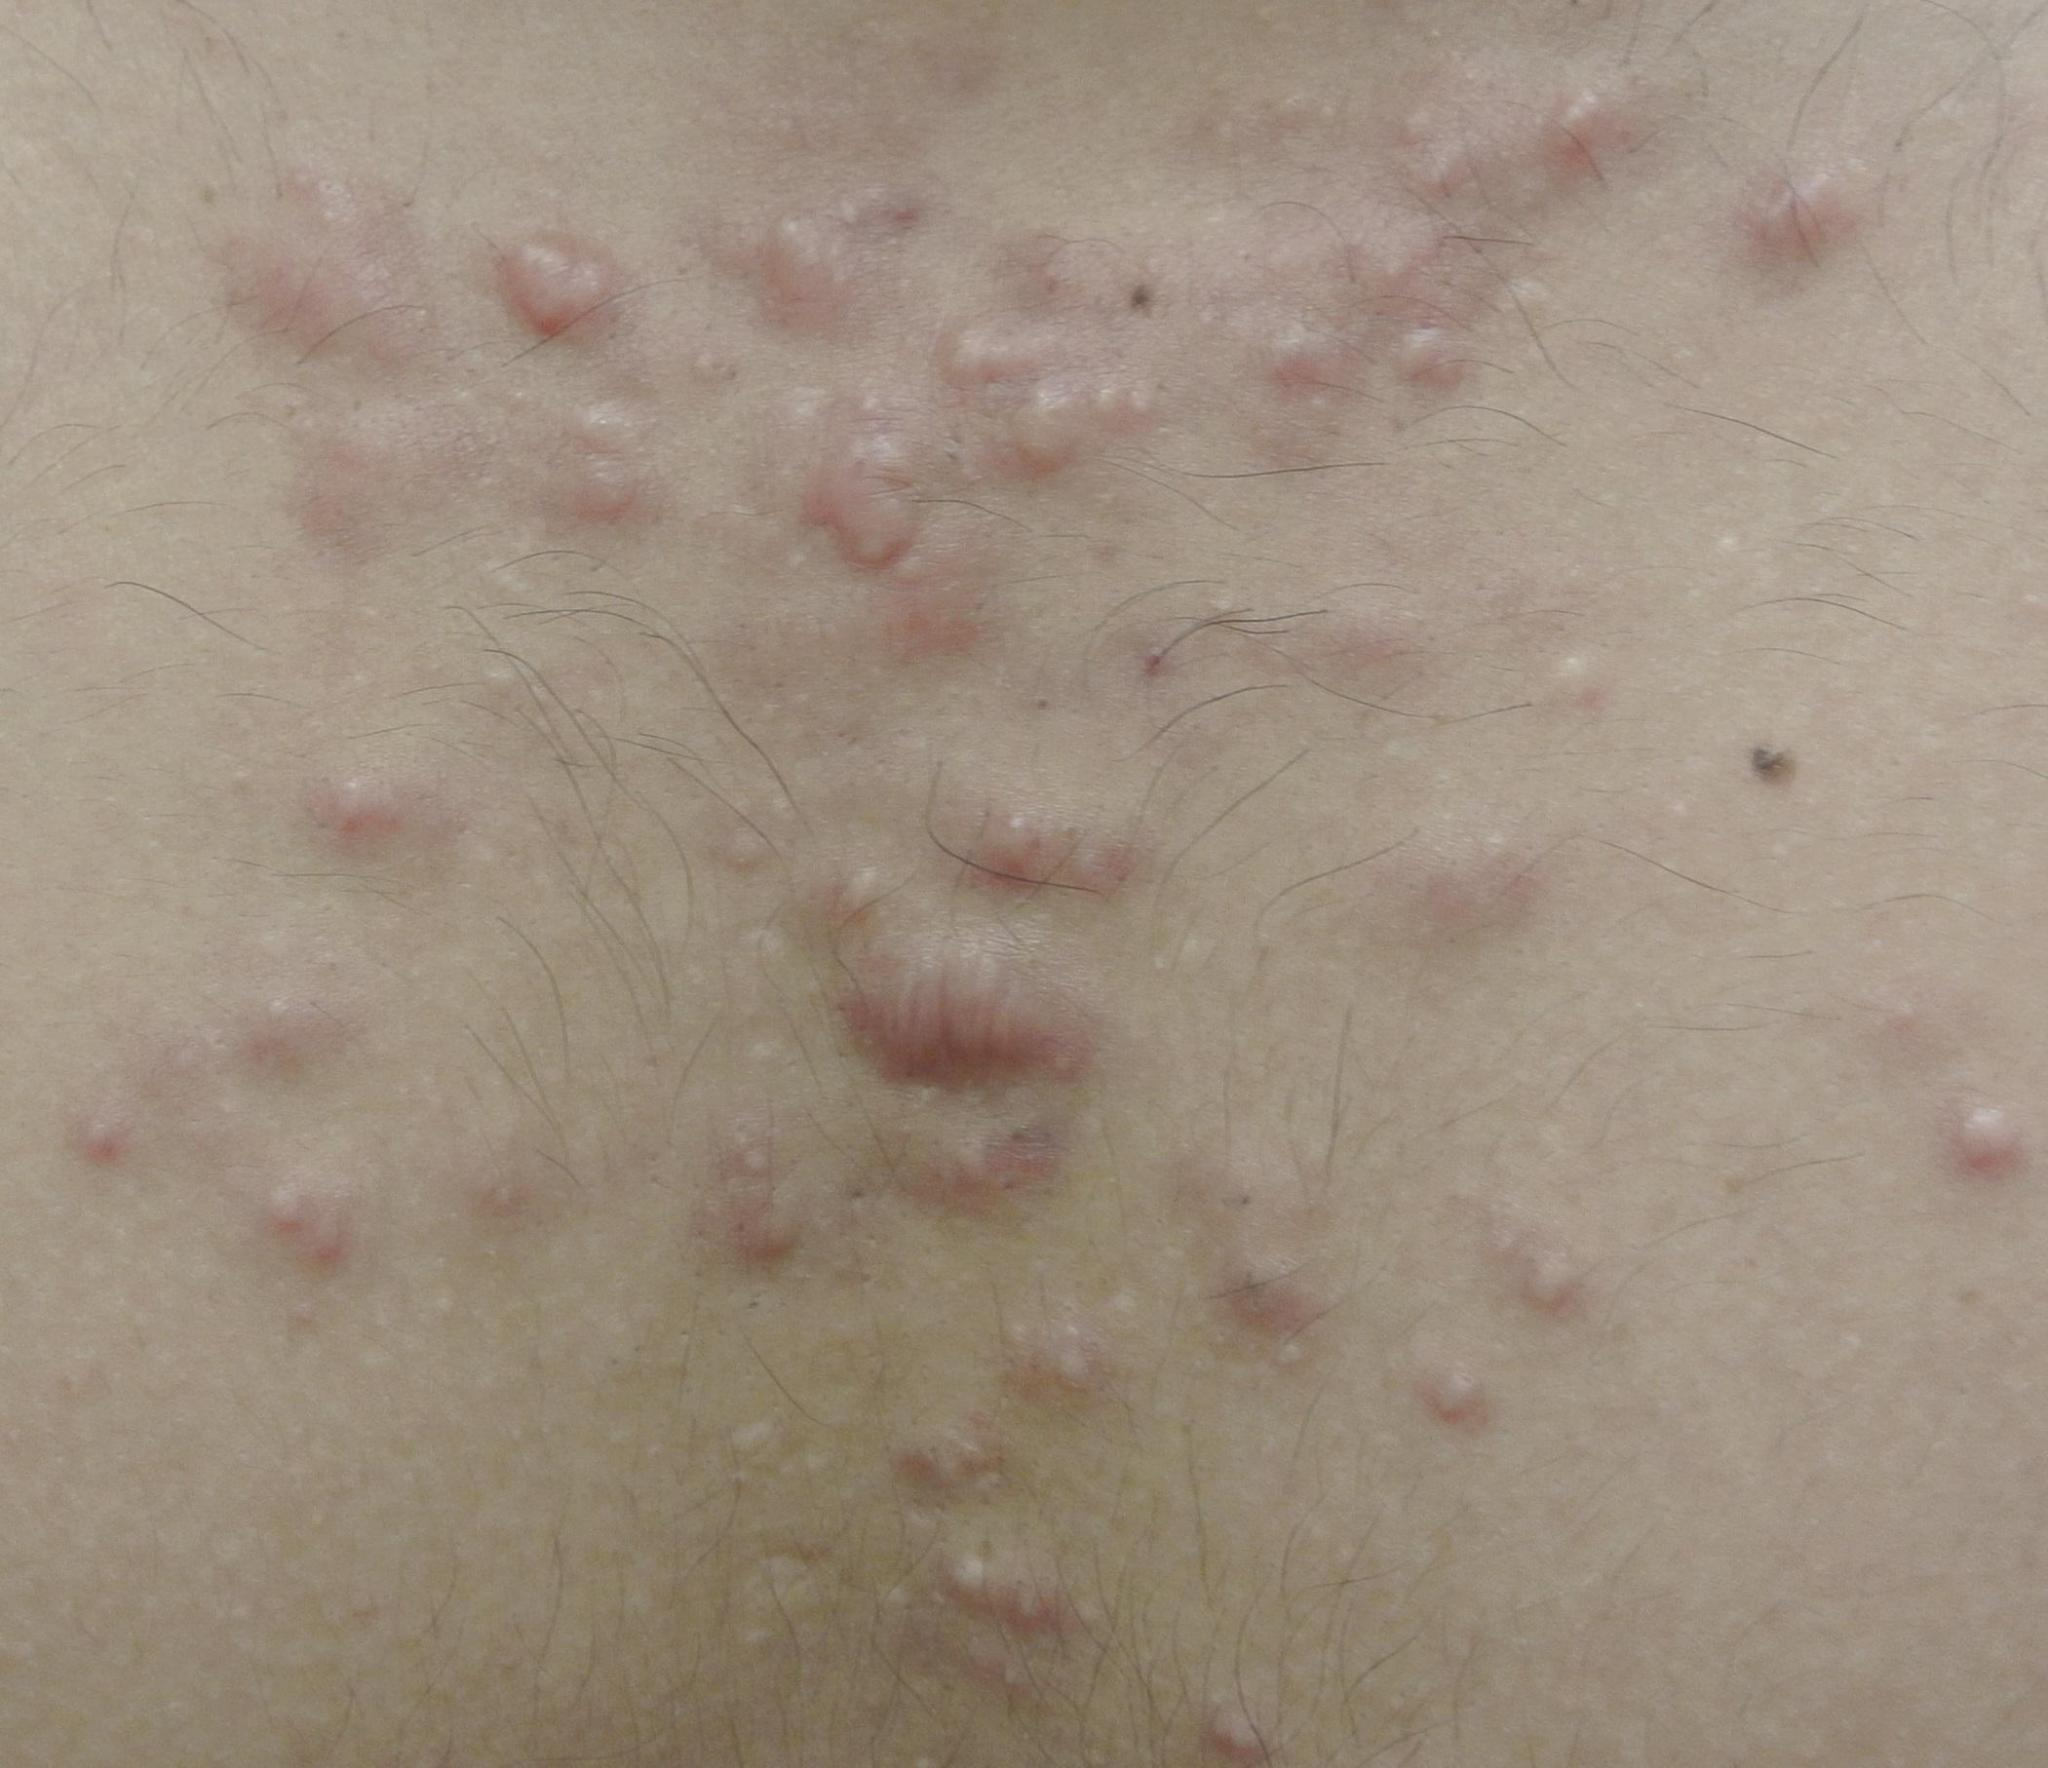keloid: (820, 918, 1101, 1094), (921, 308, 1184, 488), (782, 409, 944, 587), (707, 172, 900, 317), (481, 195, 648, 361), (920, 1535, 1141, 1655), (1498, 52, 1654, 192), (1724, 153, 1883, 263), (308, 746, 401, 845)
papular: (1235, 206, 1506, 449), (928, 758, 1151, 920), (510, 397, 686, 542), (1198, 1204, 1346, 1357), (239, 1155, 357, 1273), (1519, 613, 1642, 725), (879, 1395, 1005, 1503)
purulent: (1938, 1082, 2046, 1186), (1498, 1233, 1602, 1329), (1184, 1690, 1297, 1768), (1426, 1346, 1508, 1442)
